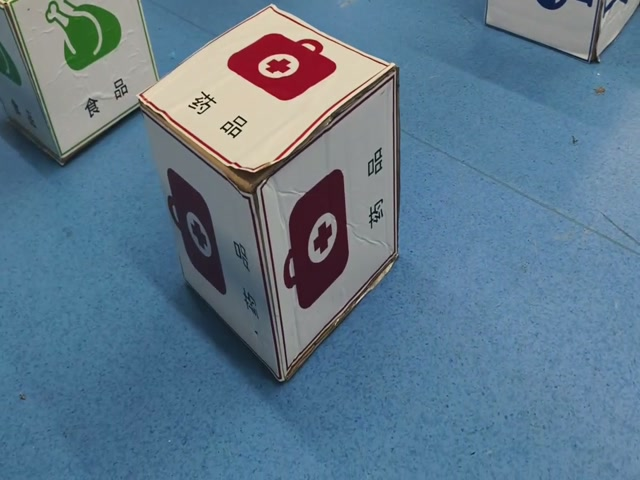Cube_medicine: (138, 8, 399, 184)
